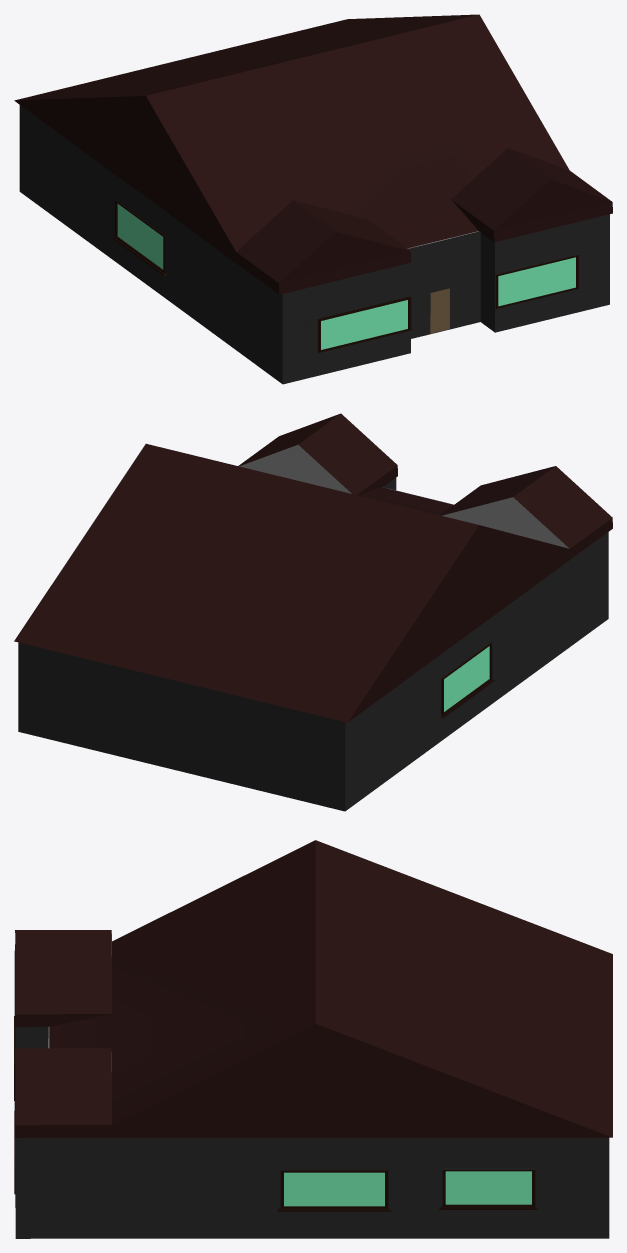
Rendered from NewHouse3.FBX.
3 views of the same model, one above another, from view 1: azimuth 30°, elevation 25°; view 2: azimuth 150°, elevation 25°; view 3: azimuth 270°, elevation 25° (orthographic). The views are drawn at different scales.
Parts seen in each view (by area): view 1: NewHouse3; view 2: NewHouse3; view 3: NewHouse3.
Part boxes in pixels (x1,y1,x2,y2): NewHouse3: (14, 14, 612, 384); NewHouse3: (14, 413, 612, 811); NewHouse3: (14, 840, 612, 1238).
Size of the model in its own units: 715 by 393 by 984.
